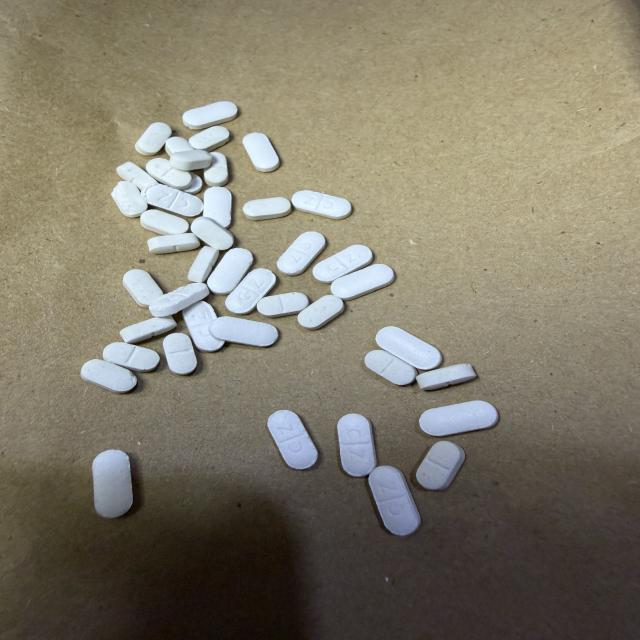pill: (369, 466, 420, 535), (268, 410, 317, 469), (420, 401, 498, 436), (376, 327, 441, 369), (92, 450, 132, 518), (416, 441, 465, 490), (338, 414, 376, 476), (331, 264, 394, 300), (313, 245, 372, 283), (226, 269, 275, 314), (207, 248, 253, 294), (277, 232, 325, 275), (142, 184, 203, 217), (209, 317, 278, 346), (183, 301, 223, 351), (149, 284, 209, 317), (81, 360, 137, 393), (365, 350, 417, 385), (292, 190, 351, 219), (103, 343, 159, 372), (120, 316, 177, 344), (298, 295, 344, 329), (416, 364, 476, 390), (242, 132, 280, 172), (183, 101, 237, 129), (123, 270, 163, 307), (146, 158, 191, 190), (163, 333, 197, 375), (191, 217, 234, 250), (112, 181, 147, 217), (140, 209, 188, 235), (257, 293, 308, 317), (135, 123, 172, 155), (203, 187, 231, 228), (116, 162, 156, 190), (243, 197, 291, 220), (188, 247, 219, 282), (148, 233, 199, 253), (189, 126, 229, 151), (169, 150, 211, 171), (204, 152, 228, 186), (165, 137, 193, 156), (184, 172, 202, 194)
